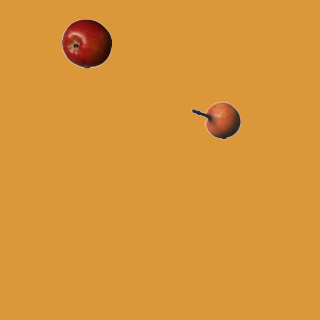Apple Braeburn: (61, 18, 111, 68)
Granadilla: (190, 95, 240, 145)
